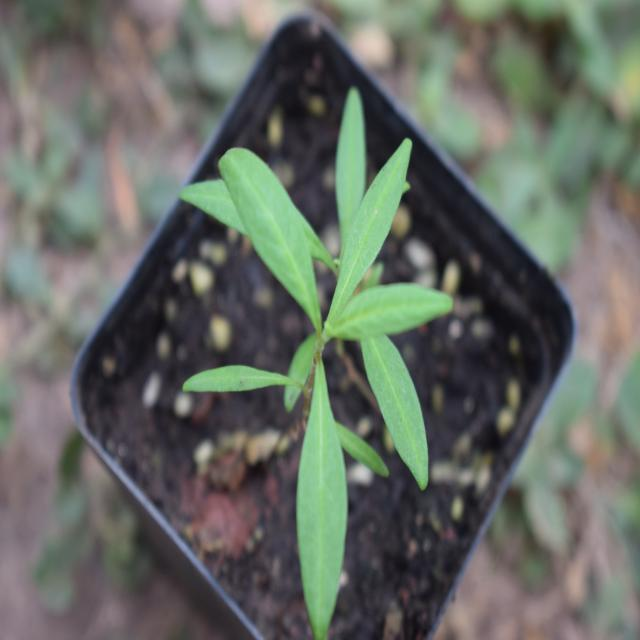white_smart_weed: (217, 65, 478, 594)
